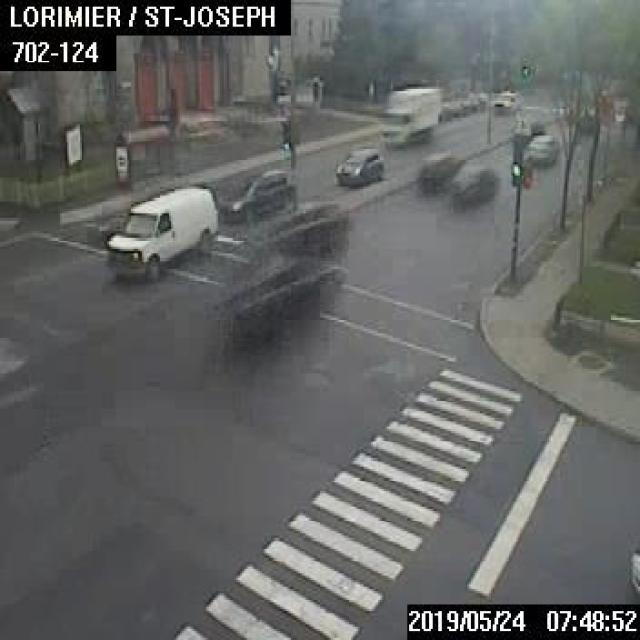vehicle: (206, 252, 344, 356), (105, 187, 216, 280), (242, 195, 346, 269), (220, 168, 292, 220), (380, 86, 439, 148), (448, 163, 498, 207), (416, 152, 463, 194), (334, 146, 381, 186), (524, 133, 555, 165), (492, 87, 524, 114)
